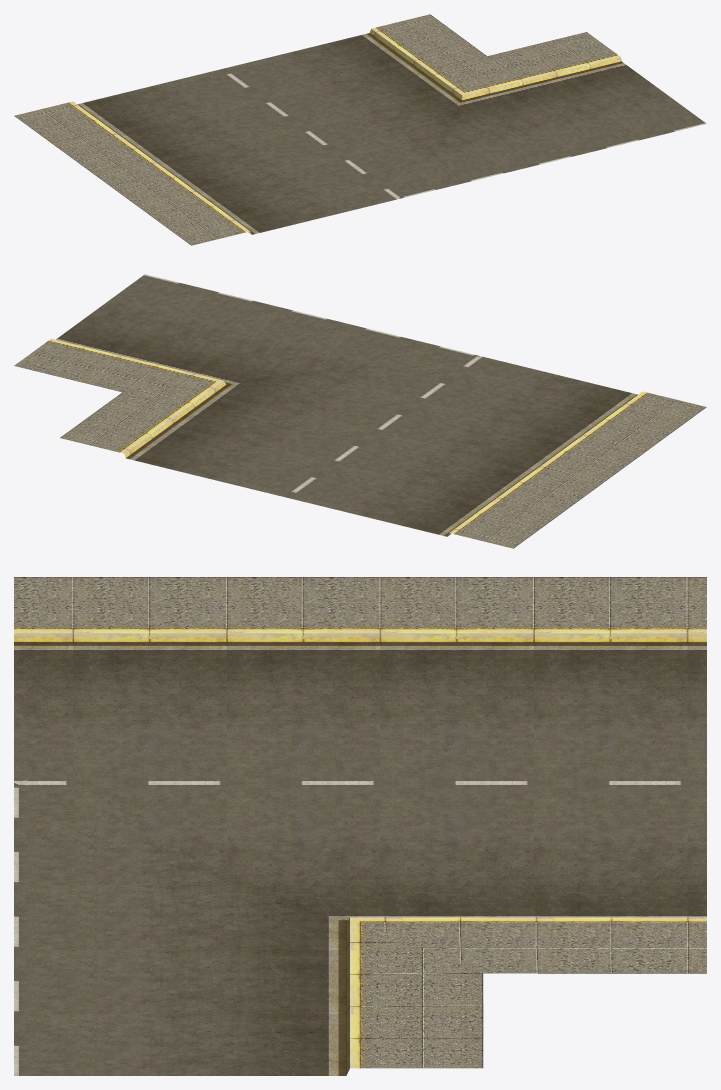
The model's file is Road3_Half_T_D.fbx.
3 renders of one model, top to bottom at view 1: azimuth 30°, elevation 25°; view 2: azimuth 150°, elevation 25°; view 3: azimuth 270°, elevation 25°, orthographic. The views are drawn at different scales.
Parts seen in each view (by area): view 1: Road_Half_T_D; view 2: Road_Half_T_D; view 3: Road_Half_T_D.
Part boxes in pixels (left/top/right/bottom): Road_Half_T_D: left=14, top=14, right=706, bottom=245; Road_Half_T_D: left=14, top=274, right=706, bottom=548; Road_Half_T_D: left=14, top=577, right=706, bottom=1075.
Bounding box in the file's own units: 2793 × 20.38 × 1666.
